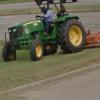Tractor: (6, 5, 89, 69)
